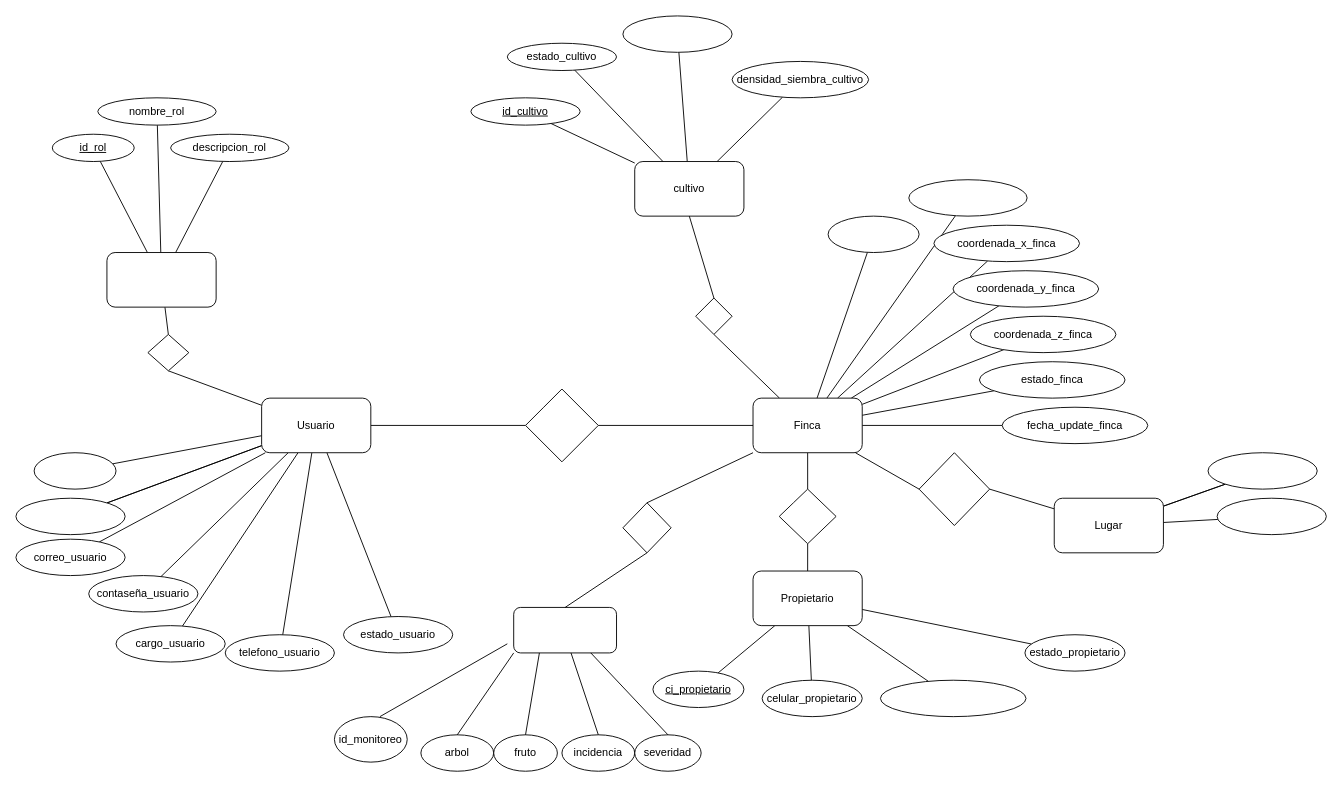
Image size: 1342x787. Some labels were removed from this diagram. The centre of each missing label's shape, as x and y in pixels:
cedula_usuario: the point at 74,470
fecha_update_propietario: the point at 953,698
id_finca: the point at 873,234
id_lugar: the point at 1262,470
Monitoreo: the point at 565,630
nombre_cultivo: the point at 677,33
nombre_finca: the point at 967,197
nombre_lugar: the point at 1271,516
nombre_usuario: the point at 70,516
Pertenece: the point at 954,489
R-U: the point at 168,352
Rol: the point at 161,279
Tiene: the point at 807,516
U-F: the point at 561,425
